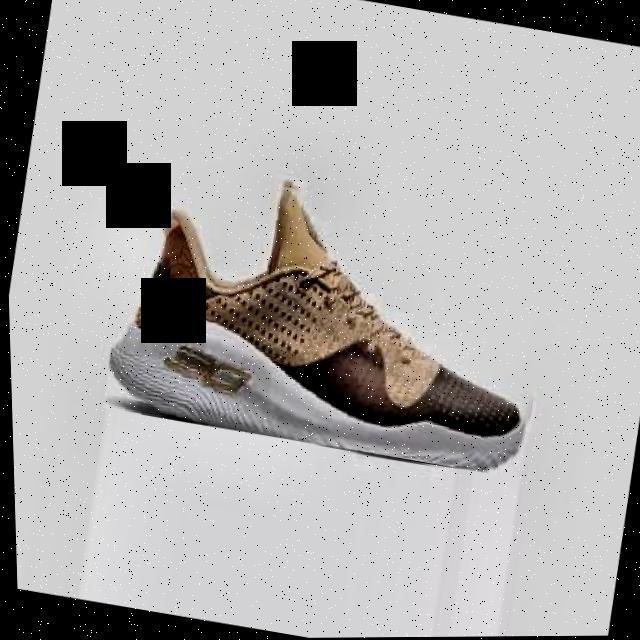shoe: (94, 151, 564, 481)
